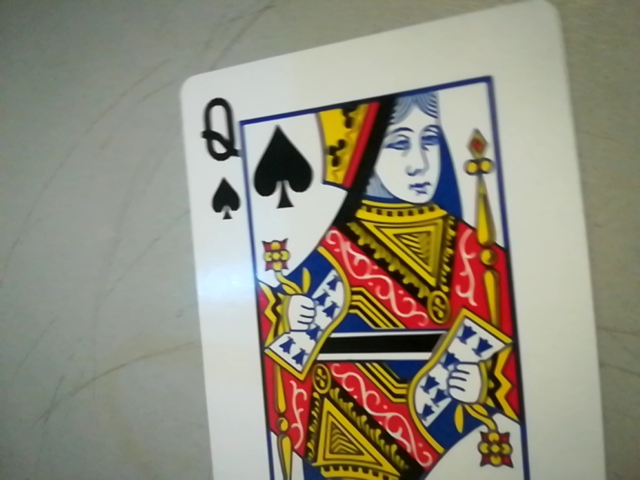ht q: (188, 91, 248, 220)
